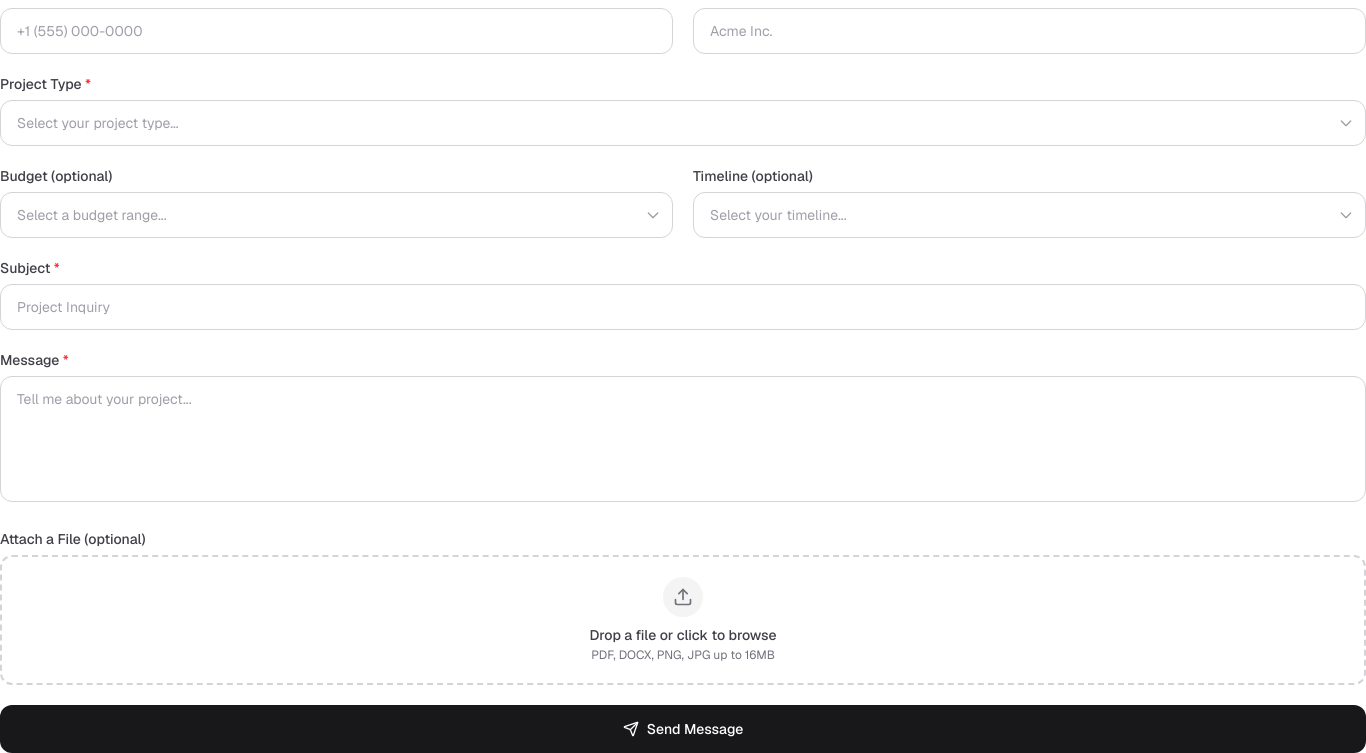
Scenario: ContactForm › validation › shows required field errors when submitting empty form
(page scrolled)
What coordinates should you click on to do the following:
click the button "Send Message"
I would click on:
 (683, 729)
Its box is [0,705,1365,752].
(page scrolled)
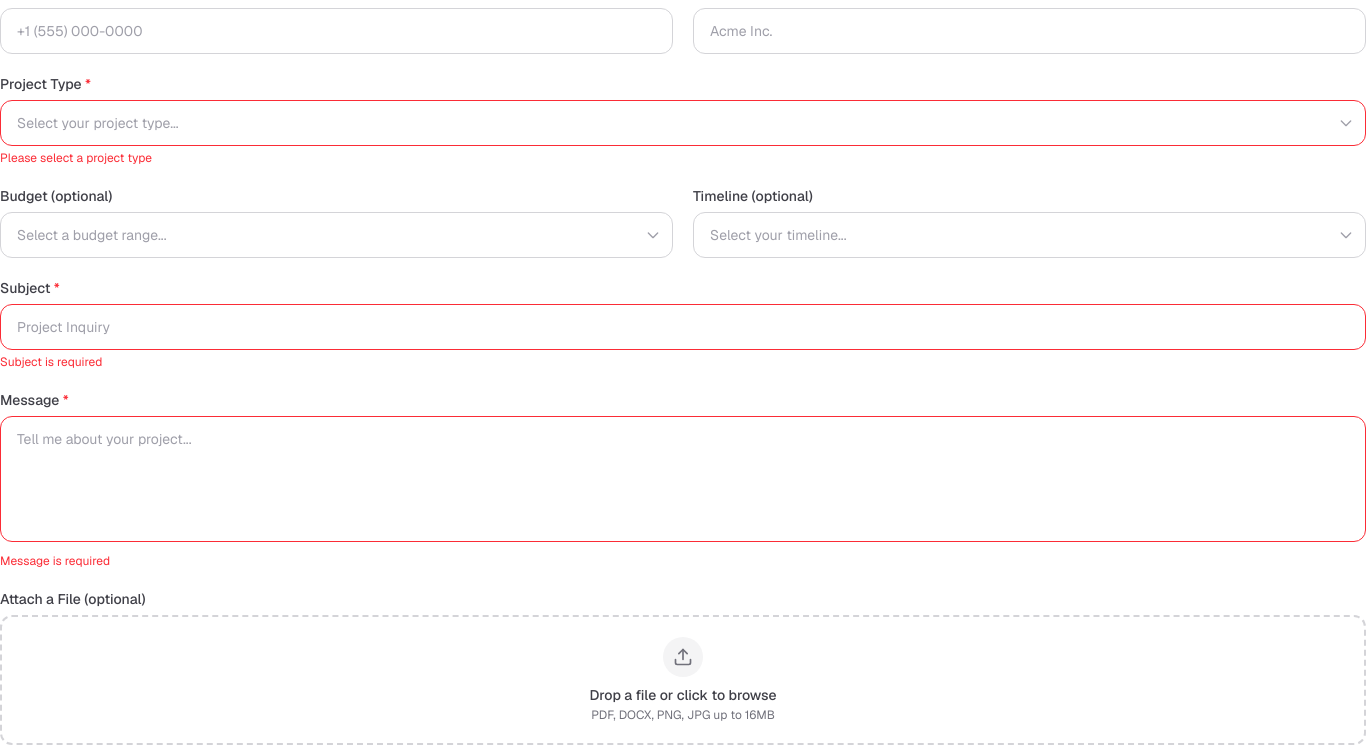
Expected: the text "Please select a project type" is shown, [0,150,152,166]
Expected: the text "Subject is required" is shown, [0,354,102,370]
Expected: the text "Message is required" is shown, [0,553,110,569]
